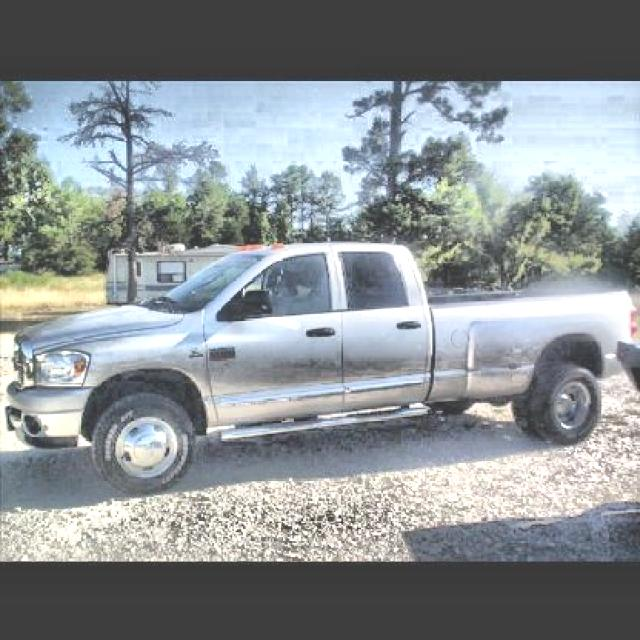silver: (14, 242, 632, 490)
